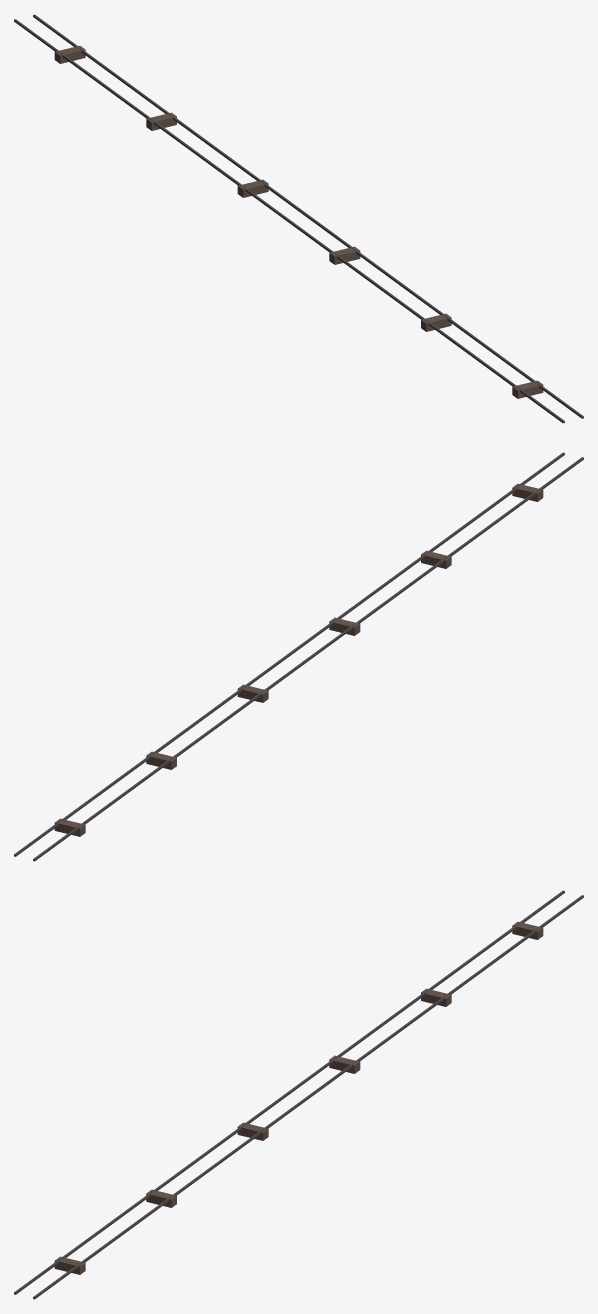
Rendered from B_cable.glb.
The picture shows the model from 3 angles, top to bottom: view 1: azimuth 30°, elevation 25°; view 2: azimuth 150°, elevation 25°; view 3: azimuth 330°, elevation 25°; orthographic projection.
Parts seen in each view (by area): view 1: Cube, Cube.001; view 2: Cube, Cube.001; view 3: Cube.001, Cube.
Part boxes in pixels (x1,y1,x2,y2): Cube: (14, 19, 564, 423); Cube.001: (33, 14, 583, 418); Cube: (33, 457, 583, 861); Cube.001: (14, 452, 564, 856); Cube.001: (33, 895, 583, 1299); Cube: (14, 890, 564, 1294).
Bounding box in the file's own units: 1.6 × 0.51 × 60.
